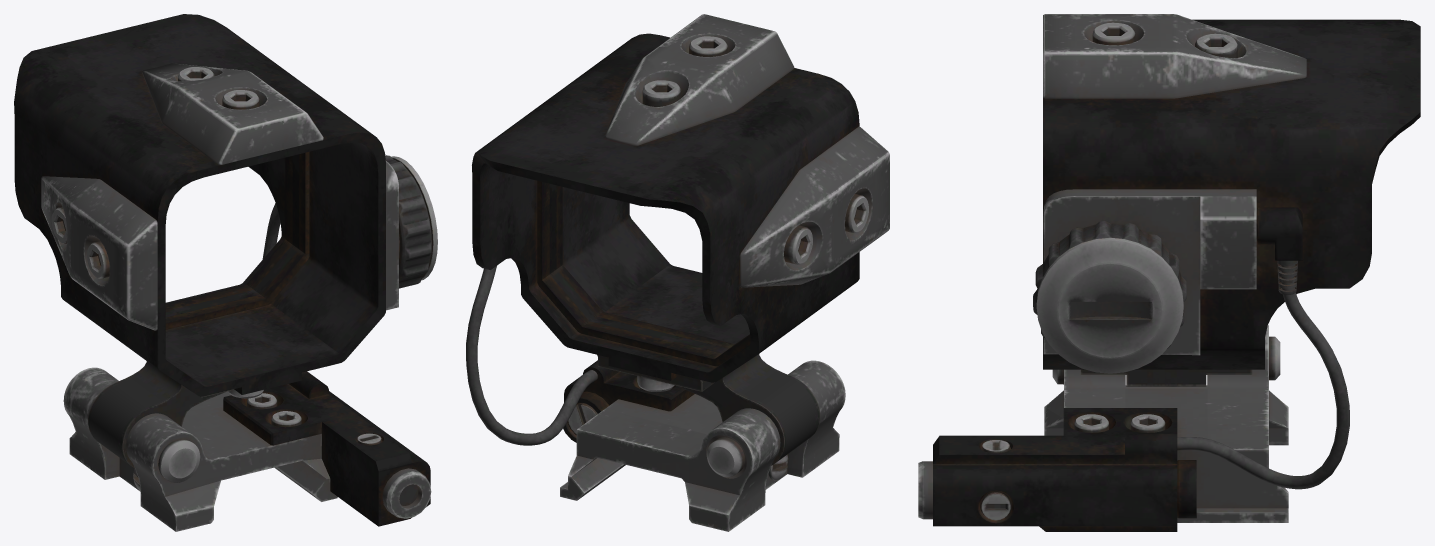
File: Sight_15.glb
3 renders of one model, left to right at view 1: azimuth 30°, elevation 25°; view 2: azimuth 150°, elevation 25°; view 3: azimuth 270°, elevation 25°, orthographic. The views are drawn at different scales.
Parts seen in each view (by area): view 1: Sight_15; view 2: Sight_15; view 3: Sight_15.
Part boxes in pixels (bbox=[...]): Sight_15: bbox=[14, 14, 437, 531]; Sight_15: bbox=[466, 14, 889, 531]; Sight_15: bbox=[918, 14, 1420, 531].
Size of the model in its own units: 0.059 by 0.0705 by 0.0706.
1 material, 1 textured.
